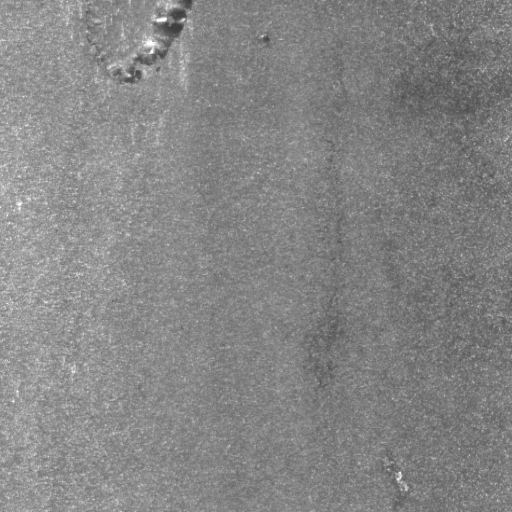aokeng: (105, 1, 193, 85)
